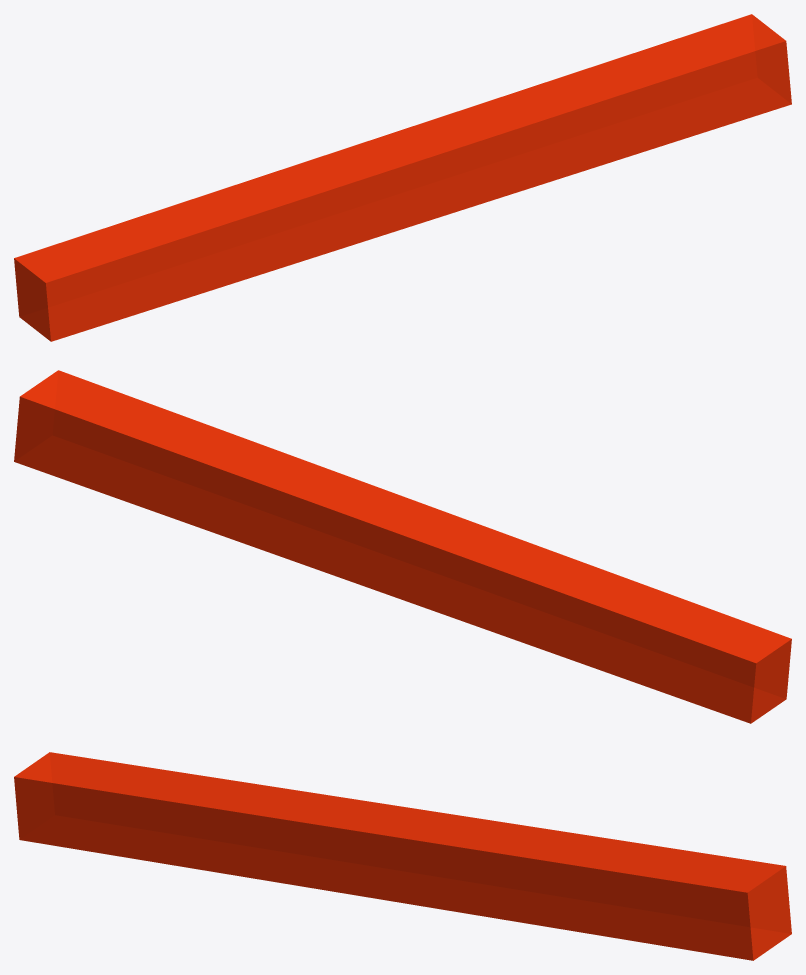
The model's file is Event_420094457_EErechit_32.fbx.
3 views of the same model, one above another, from view 1: azimuth 30°, elevation 25°; view 2: azimuth 150°, elevation 25°; view 3: azimuth 330°, elevation 25° (orthographic). The views are drawn at different scales.
Parts seen in each view (by area): view 1: Model; view 2: Model; view 3: Model.
Boxes of the visible parts, bbox=[...] form: Model: bbox=[14, 14, 791, 341]; Model: bbox=[14, 370, 791, 723]; Model: bbox=[14, 752, 791, 960].
Size of the model in its own units: 0.924 by 0.1619 by 0.1014.
